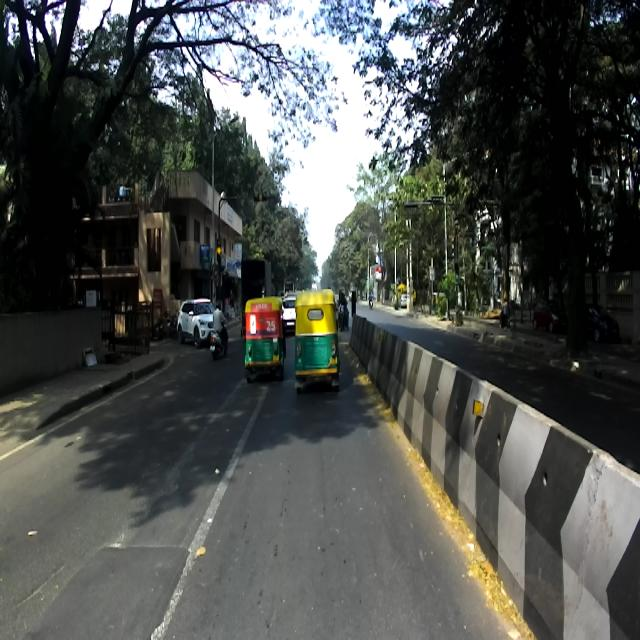auto ahead at: (292, 292, 341, 387), (244, 294, 284, 376)
traffic signal ahead at: (215, 233, 225, 276)
